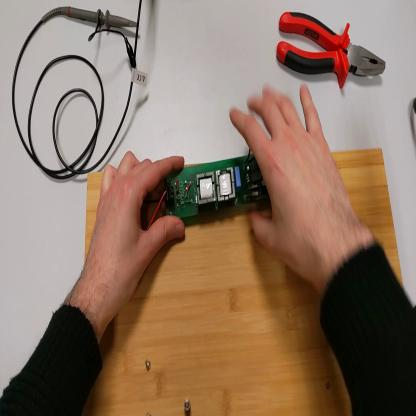hand: (230, 84, 354, 281), (88, 149, 188, 314)
high voltage board: (146, 153, 271, 232)
oscilloscope probe tip: (58, 5, 140, 34)
pliers: (276, 11, 388, 90)
working area: (83, 149, 413, 414)
